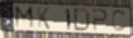1: (64, 8, 72, 31)
C: (110, 10, 128, 34)
D: (72, 8, 91, 33)
K: (36, 6, 51, 30)
M: (14, 4, 36, 31)
P: (92, 8, 109, 33)
